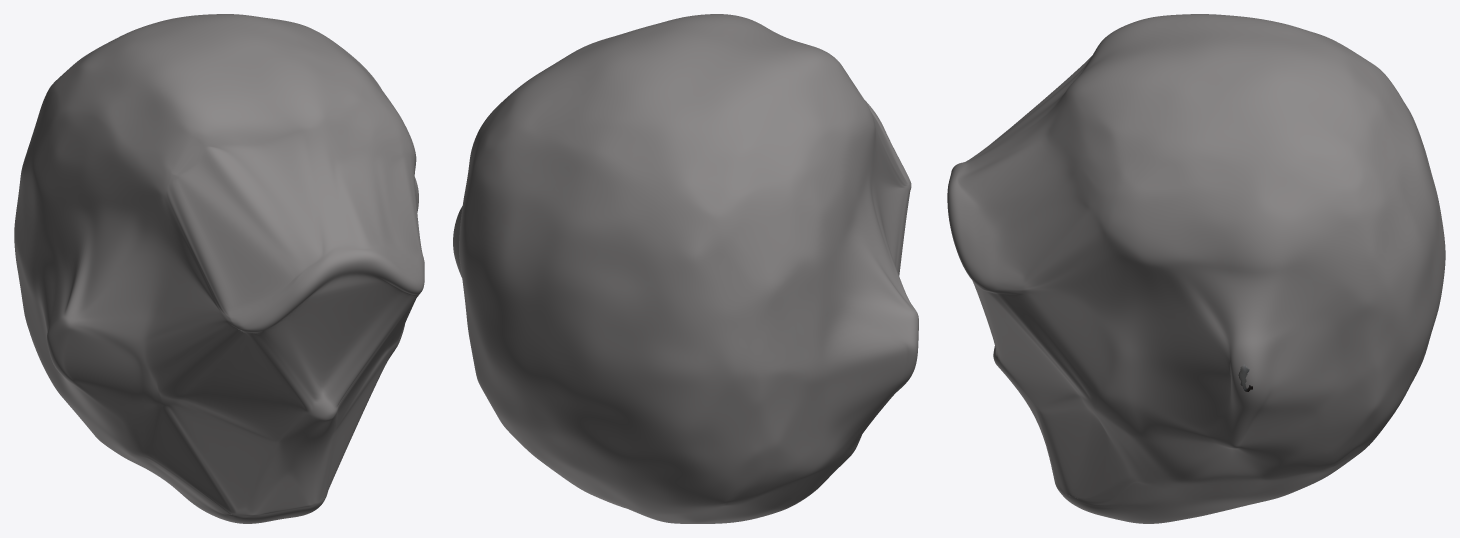
File: Maschera.glb
3 renders of one model, left to right at view 1: azimuth 30°, elevation 25°; view 2: azimuth 150°, elevation 25°; view 3: azimuth 270°, elevation 25°, orthographic. The views are drawn at different scales.
Parts seen in each view (by area): view 1: Cube; view 2: Cube; view 3: Cube.
Part boxes in pixels (x1,y1,x2,y2): Cube: (14, 14, 424, 523); Cube: (453, 14, 918, 523); Cube: (947, 14, 1445, 523).
Bounding box in the file's own units: 1.78 × 1.9 × 1.83.
2 materials, 1 textured.
